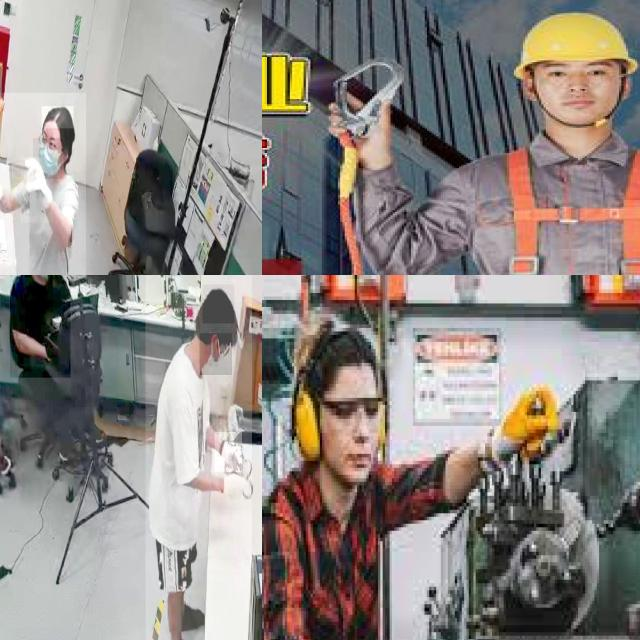Ear-protection: (287, 384, 318, 457)
Harness: (482, 132, 640, 275)
face_mask: (200, 333, 232, 375), (33, 138, 62, 179)
glasses: (320, 391, 387, 426)
hand_glove: (486, 385, 564, 469), (21, 156, 53, 222), (218, 466, 252, 511), (214, 432, 242, 472)
head_nohelmet: (202, 284, 235, 324), (42, 106, 74, 129)
person: (262, 331, 564, 640), (145, 275, 252, 640), (0, 92, 86, 275), (10, 275, 71, 378)
shoes: (167, 596, 207, 638)
